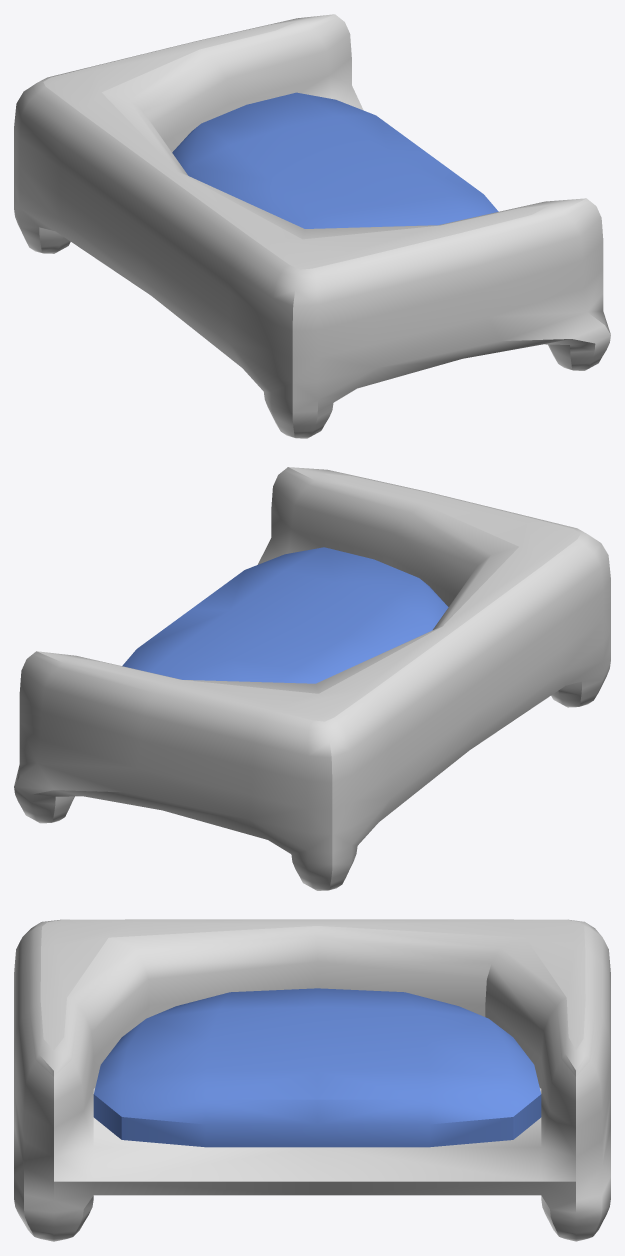
Rendered from dogBasket.fbx.
The picture shows the model from 3 angles, top to bottom: view 1: azimuth 30°, elevation 25°; view 2: azimuth 150°, elevation 25°; view 3: azimuth 270°, elevation 25°; orthographic projection. The views are drawn at different scales.
Visible parts, largest first — view 1: stand, pillow; view 2: stand, pillow; view 3: stand, pillow.
Boxes of the visible parts, bbox=[...] form: stand: bbox=[14, 14, 610, 438]; pillow: bbox=[172, 92, 498, 228]; stand: bbox=[14, 467, 610, 890]; pillow: bbox=[122, 547, 448, 683]; stand: bbox=[14, 919, 610, 1241]; pillow: bbox=[93, 988, 541, 1147].
Size of the model in its own units: 64.5 by 31.31 by 96.73.
